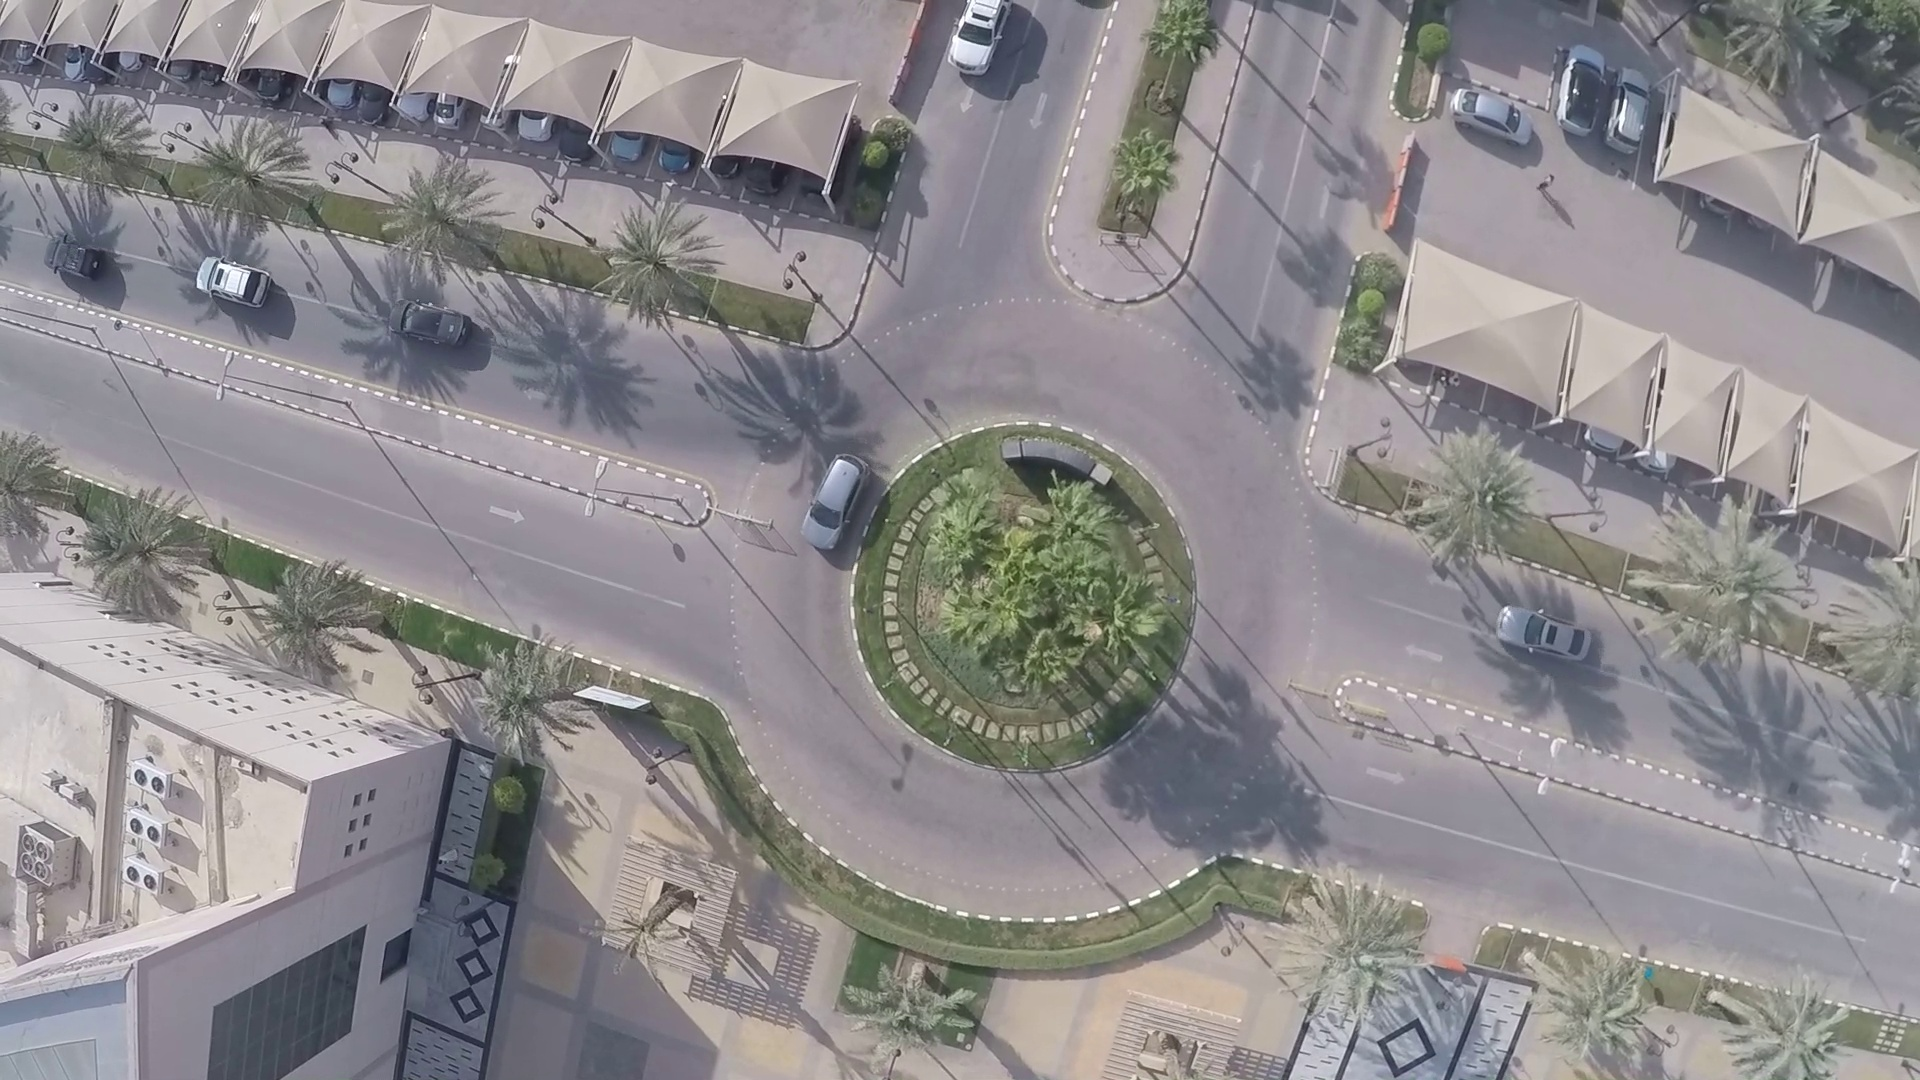car: (785, 463, 862, 556), (1499, 597, 1598, 667), (189, 253, 273, 310), (28, 233, 105, 284), (378, 309, 468, 343)
